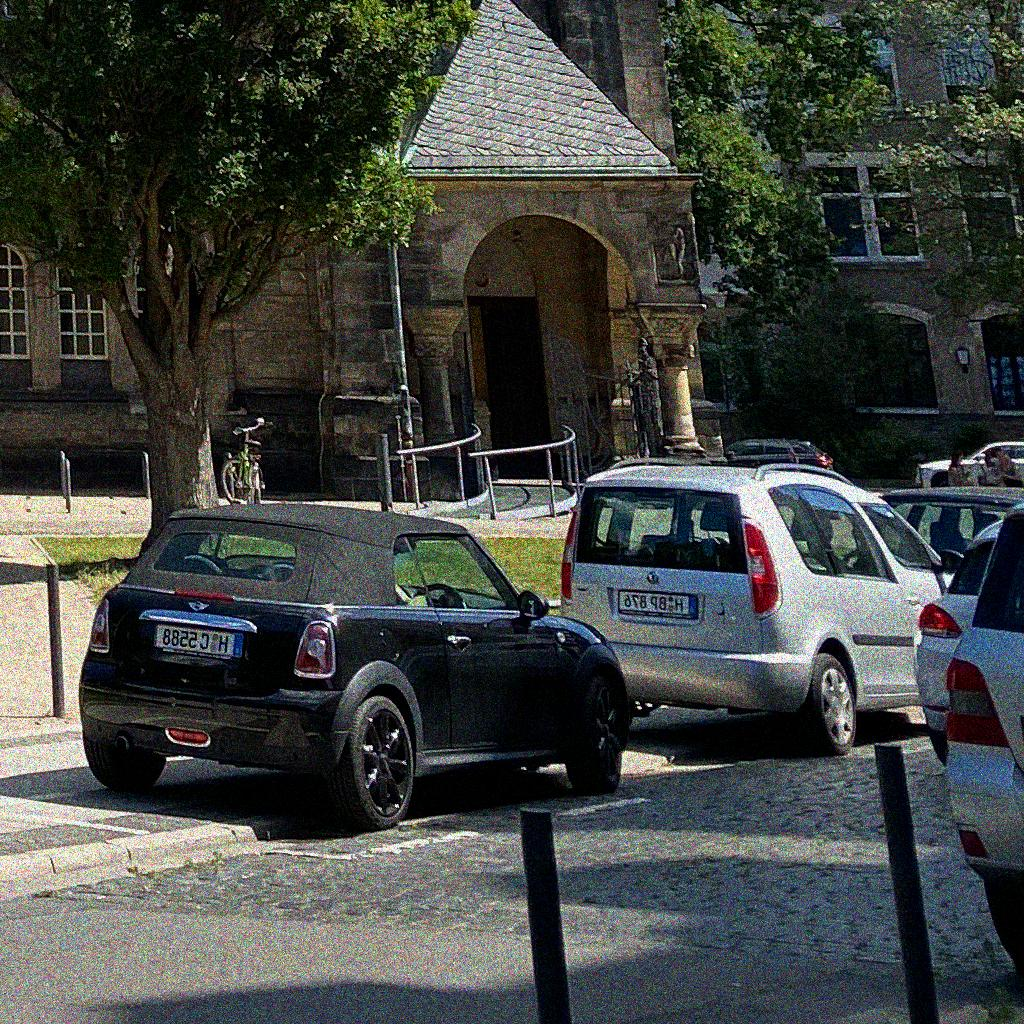tree: (1, 1, 483, 527), (654, 2, 896, 440), (850, 1, 1023, 332)
